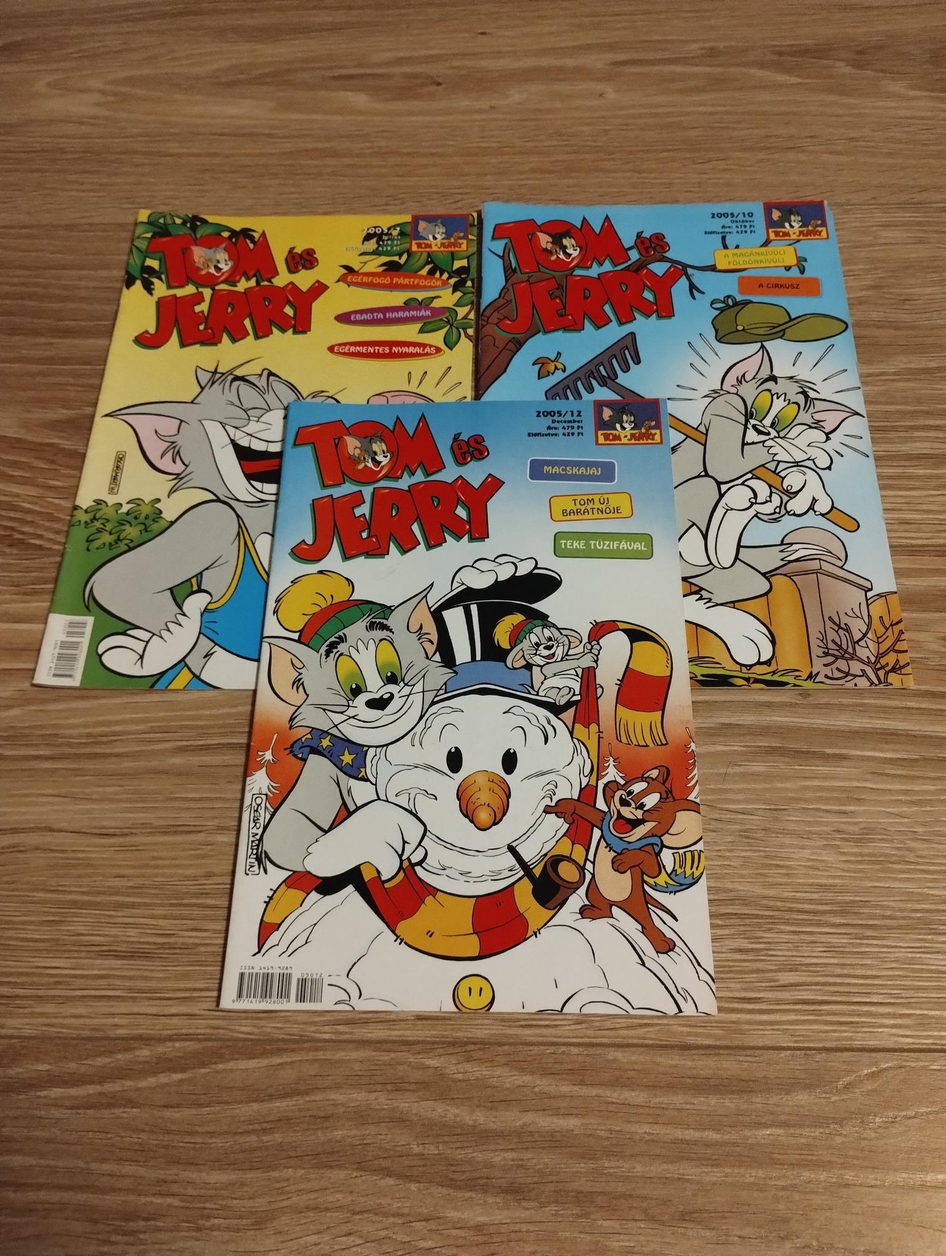comic: (221, 397, 718, 1013), (34, 143, 510, 761), (478, 201, 910, 689)
